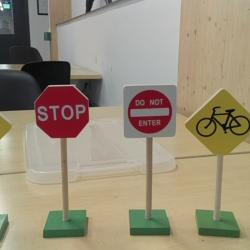bicycle: (185, 89, 250, 155)
do_not_enter: (123, 85, 176, 137)
stop: (35, 85, 90, 138)
